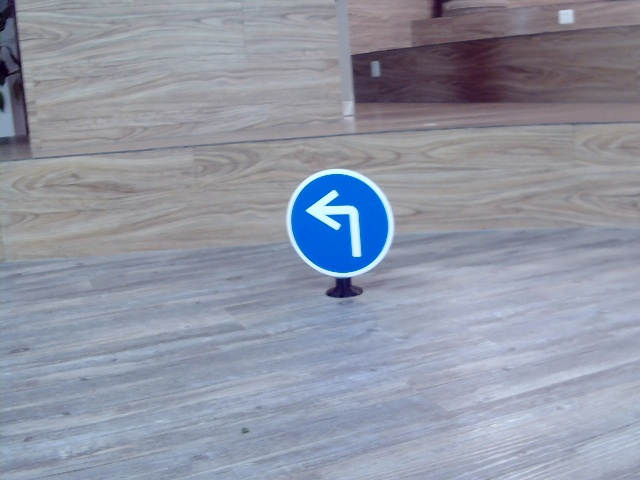turn_left: (304, 185, 370, 256)
